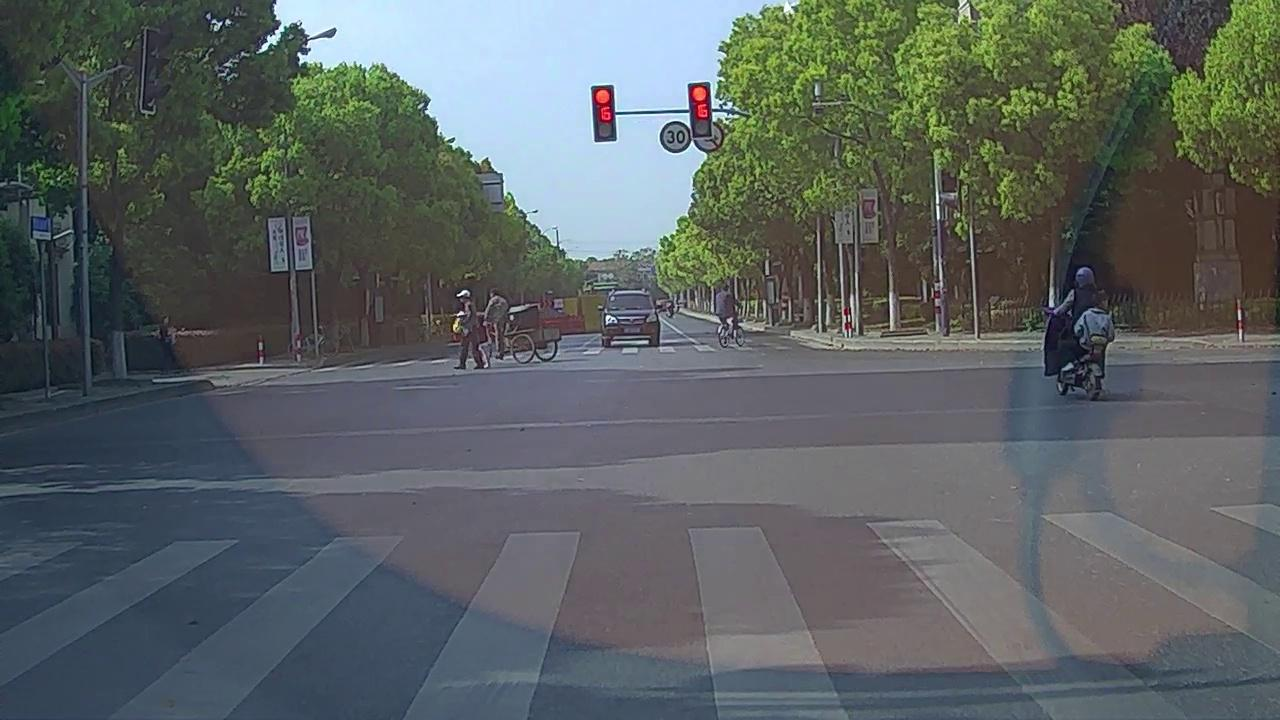traffic_light: (593, 86, 616, 141), (689, 84, 712, 138)
